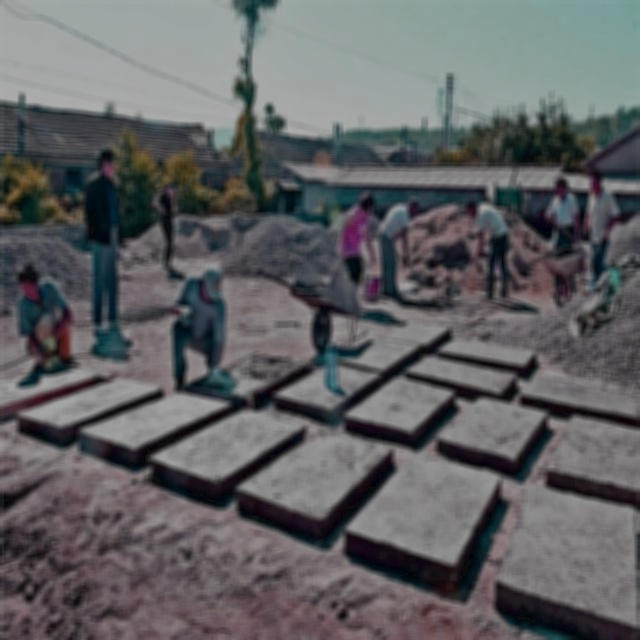Sin_Casco_Mascarrilla: (99, 148, 119, 177), (359, 191, 375, 216), (590, 168, 602, 196), (465, 198, 478, 221)
